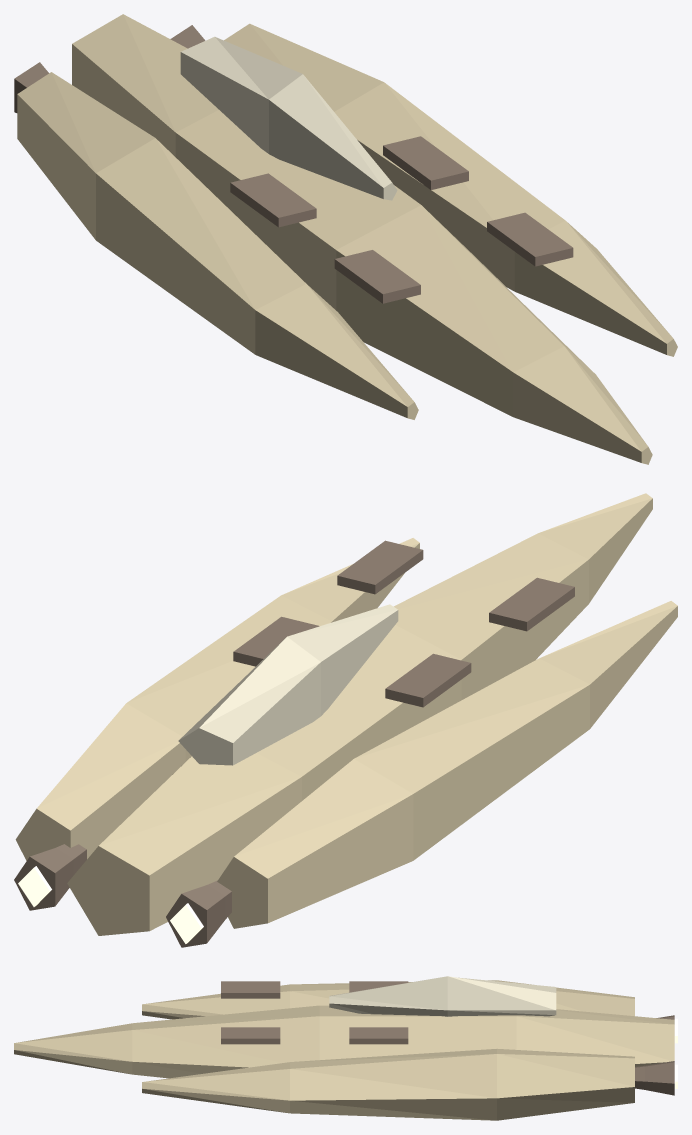
The picture shows the model from 3 angles, top to bottom: view 1: azimuth 30°, elevation 25°; view 2: azimuth 150°, elevation 25°; view 3: azimuth 270°, elevation 25°; orthographic projection. The views are drawn at different scales.
Size of the model in its own units: 8.91 by 4.61 by 24.4.
